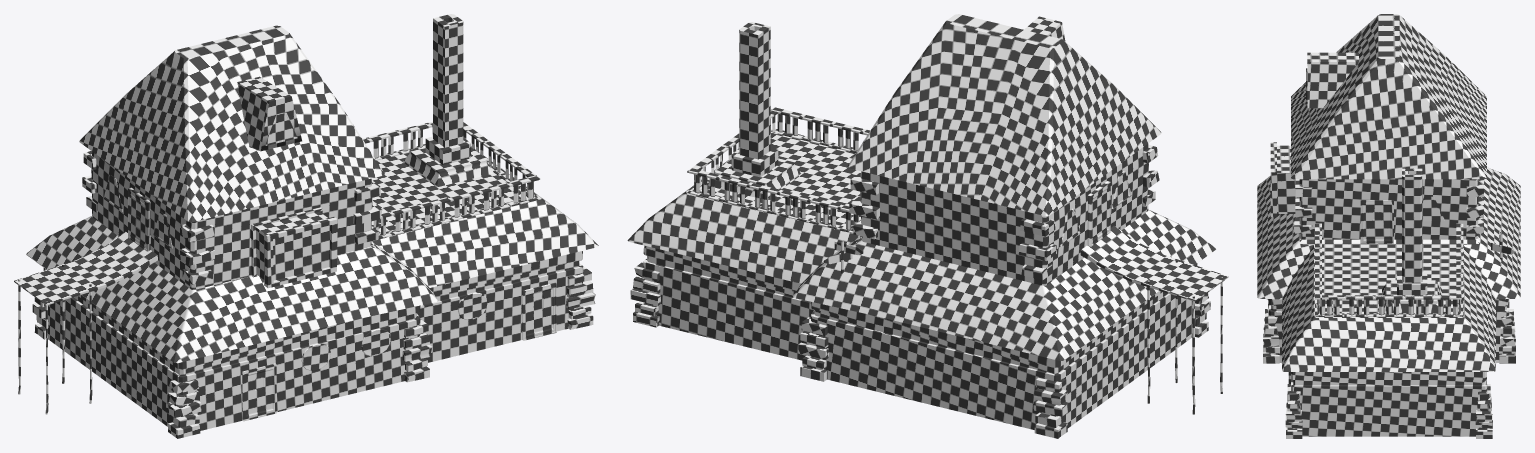
Rendered from House_3.fbx.
3 renders of one model, left to right at view 1: azimuth 30°, elevation 25°; view 2: azimuth 150°, elevation 25°; view 3: azimuth 270°, elevation 25°, orthographic. The views are drawn at different scales.
Parts seen in each view (by area): view 1: House_3; view 2: House_3; view 3: House_3.
Part boxes in pixels (x1,y1,x2,y2): House_3: [14, 14, 598, 438]; House_3: [627, 14, 1228, 438]; House_3: [1257, 14, 1520, 438].
Bounding box in the file's own units: 1581 × 932 × 811.
Materials: 1 (1 with a texture image).
